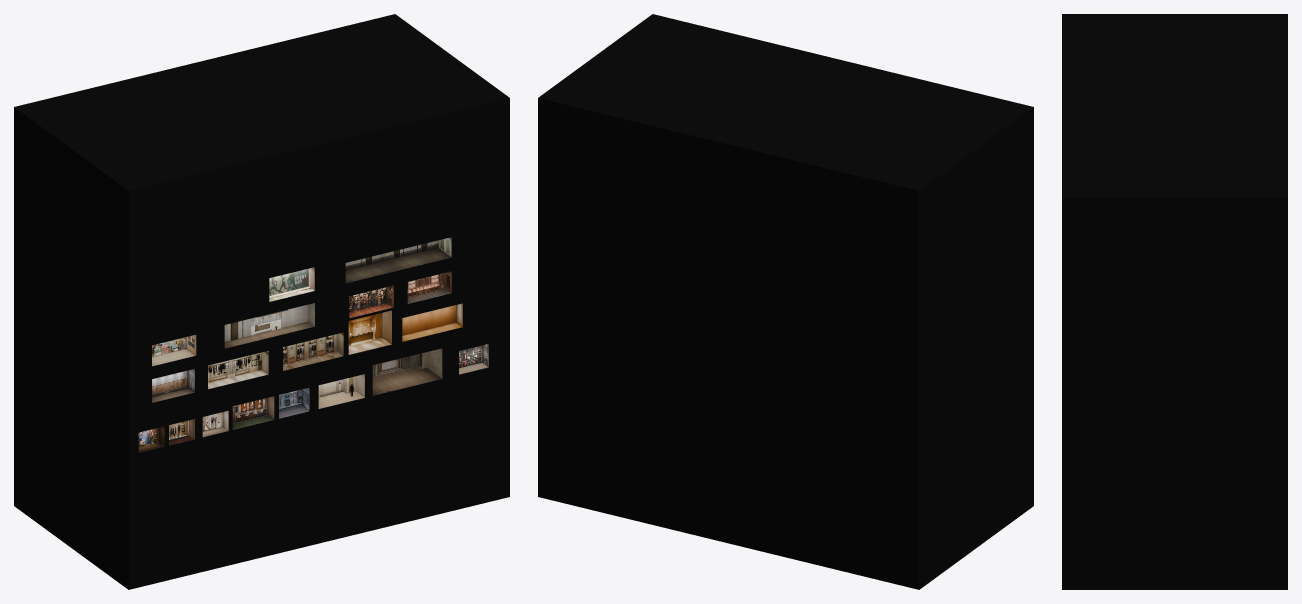
File: free_simple_storefront_interior_pack.glb
The picture shows the model from 3 angles, left to right: view 1: azimuth 30°, elevation 25°; view 2: azimuth 150°, elevation 25°; view 3: azimuth 270°, elevation 25°; orthographic projection.
Visible parts, largest first — view 1: Cube.002, Cube; view 2: Cube.002; view 3: Cube.002.
Part boxes in pixels (x1,y1,x2,y2): Cube.002: (14,14,509,589); Cube: (138,237,488,452); Cube.002: (538,14,1033,589); Cube.002: (1062,14,1287,589).
Bounding box in the file's own units: 58.62 × 58.62 × 30.55.
Materials: 3 (1 with a texture image).
